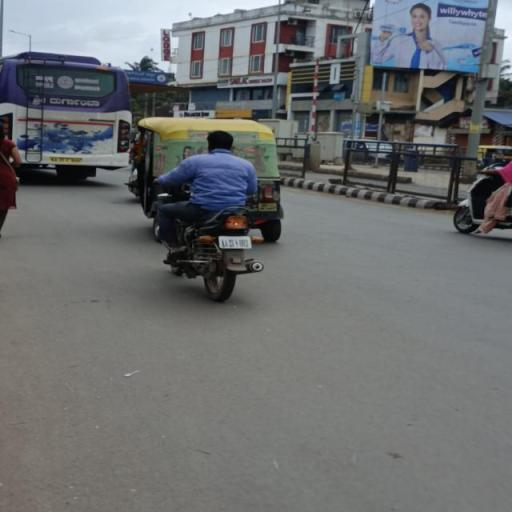bike: (148, 126, 272, 302)
withouthelmet: (208, 130, 231, 149)
